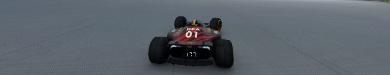Car: (147, 15, 233, 68)
